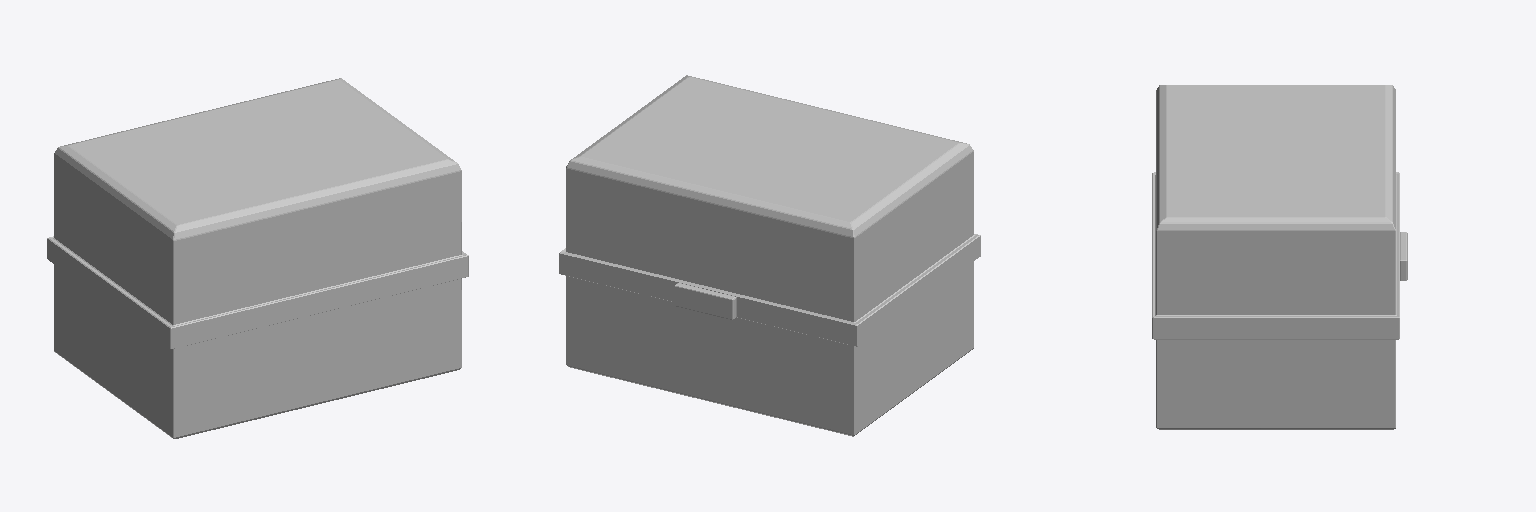
3 renders of one model, left to right at view 1: azimuth 30°, elevation 25°; view 2: azimuth 150°, elevation 25°; view 3: azimuth 270°, elevation 25°, orthographic.
Parts seen in each view (by area): view 1: Chest_BG pCube39; view 2: Chest_BG pCube39, pCube41 Chest_BG; view 3: Chest_BG pCube39.
Boxes of the visible parts, x1=… form: Chest_BG pCube39: x1=47, y1=78, x2=468, y2=438; Chest_BG pCube39: x1=559, y1=75, x2=980, y2=436; pCube41 Chest_BG: x1=675, y1=283, x2=736, y2=319; Chest_BG pCube39: x1=1152, y1=85, x2=1399, y2=429.
Size of the model in its own units: 1.03 by 0.6947 by 0.7649.